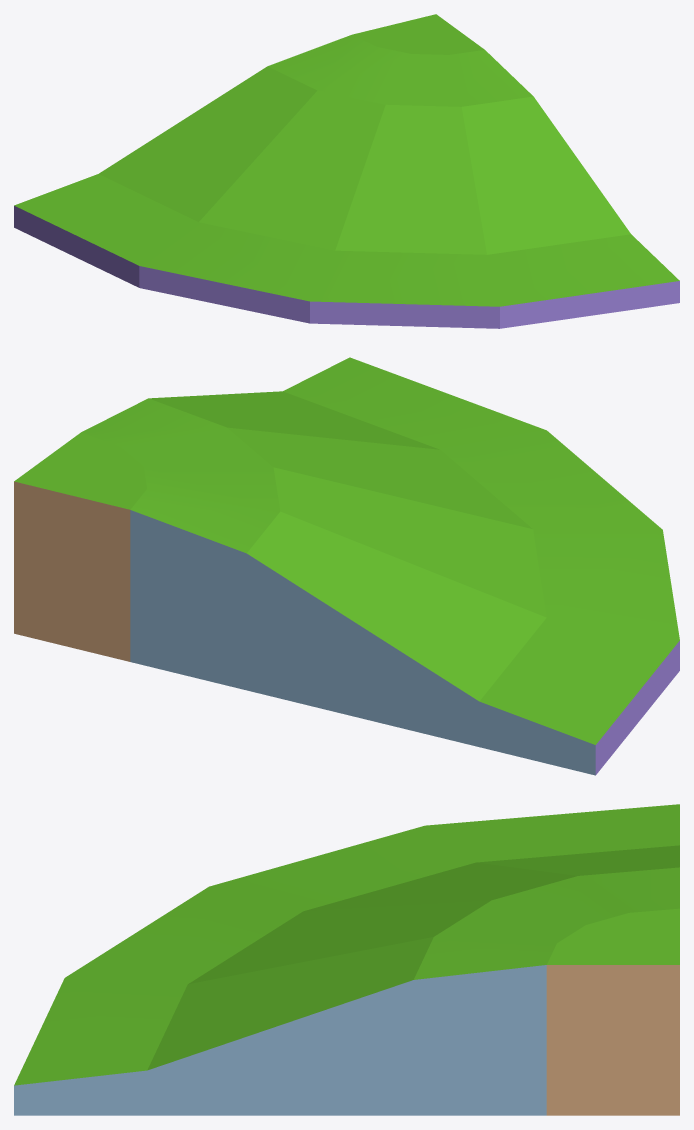
Rendered from Grass_Hill_Gentle_Curve_Outer_4x4.glb.
3 views of the same model, one above another, from view 1: azimuth 30°, elevation 25°; view 2: azimuth 150°, elevation 25°; view 3: azimuth 270°, elevation 25° (orthographic). The views are drawn at different scales.
Visible parts, largest first — view 1: Grass_Hill_Gentle_Curve_Outer_4x4; view 2: Grass_Hill_Gentle_Curve_Outer_4x4; view 3: Grass_Hill_Gentle_Curve_Outer_4x4.
Boxes of the visible parts, box(x1,y1,x2,y2) form: Grass_Hill_Gentle_Curve_Outer_4x4: box(14, 14, 679, 328); Grass_Hill_Gentle_Curve_Outer_4x4: box(14, 357, 679, 775); Grass_Hill_Gentle_Curve_Outer_4x4: box(14, 804, 679, 1115).
Bounding box in the file's own units: 500 × 125 × 500.
